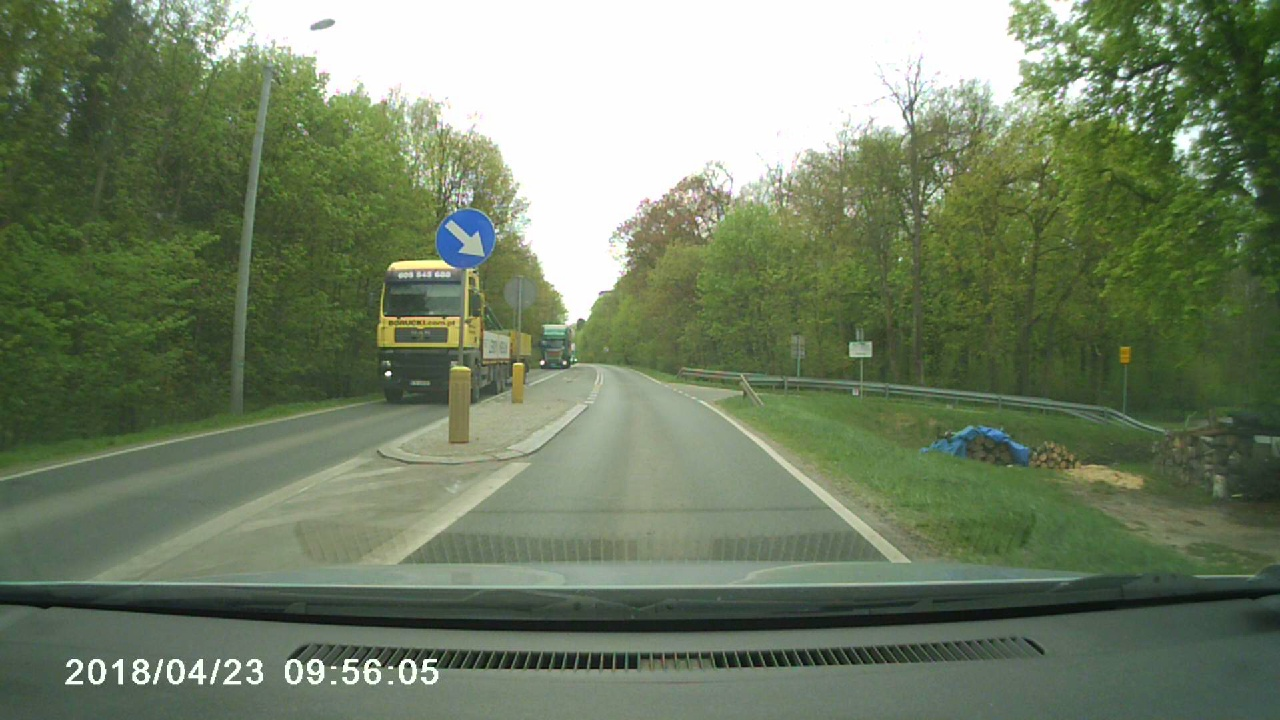C9: (433, 208, 496, 270)
